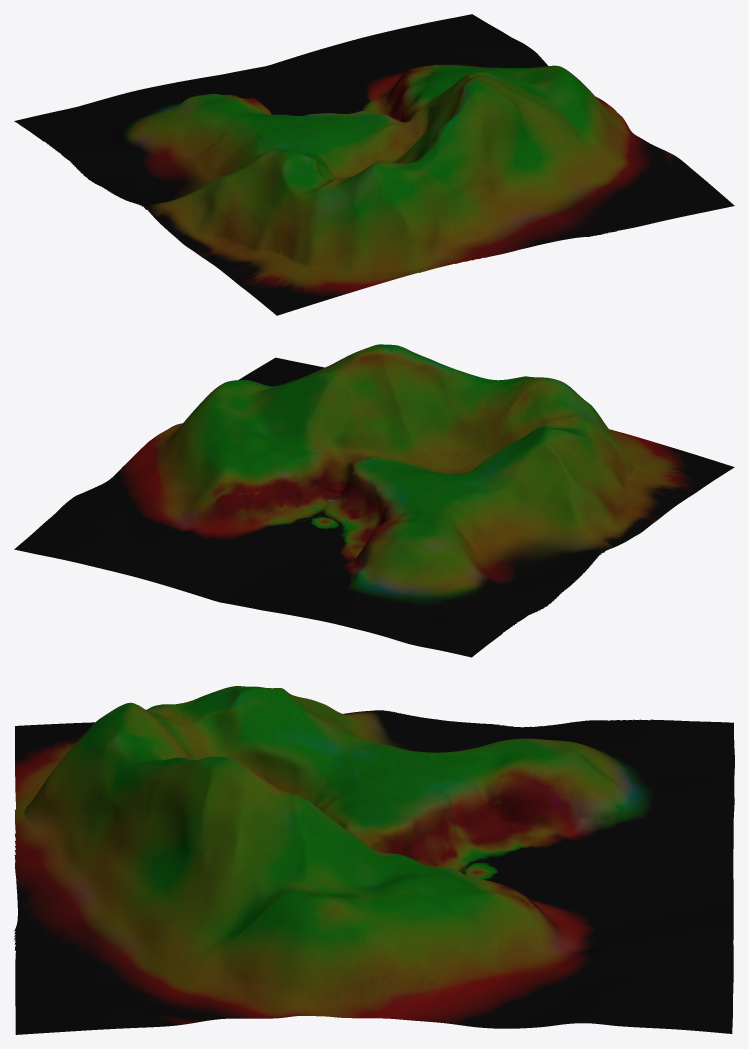
The model's file is island_v6.glb.
The picture shows the model from 3 angles, top to bottom: view 1: azimuth 30°, elevation 25°; view 2: azimuth 150°, elevation 25°; view 3: azimuth 270°, elevation 25°; orthographic projection. The views are drawn at different scales.
Visible parts, largest first — view 1: Island_BG, Island_Beach; view 2: Island_BG, Island_Beach; view 3: Island_BG, Island_Beach.
Boxes of the visible parts, box(x1,y1,x2,y2) form: Island_BG: box(14, 14, 734, 315); Island_Beach: box(258, 64, 410, 122); Island_BG: box(14, 344, 734, 657); Island_Beach: box(176, 467, 379, 581); Island_BG: box(14, 686, 734, 1034); Island_Beach: box(381, 811, 621, 942).
Bounding box in the file's own units: 777 × 184 × 772.
Materials: 2 (2 with a texture image).
